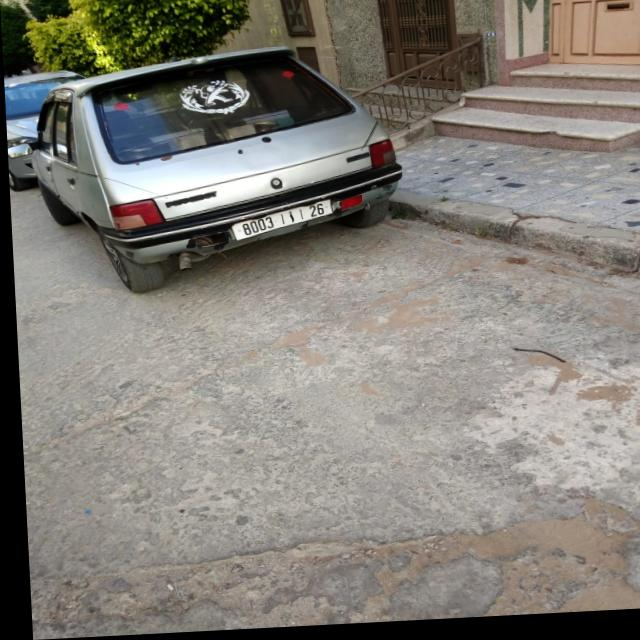License-Plate: (230, 204, 331, 243)
